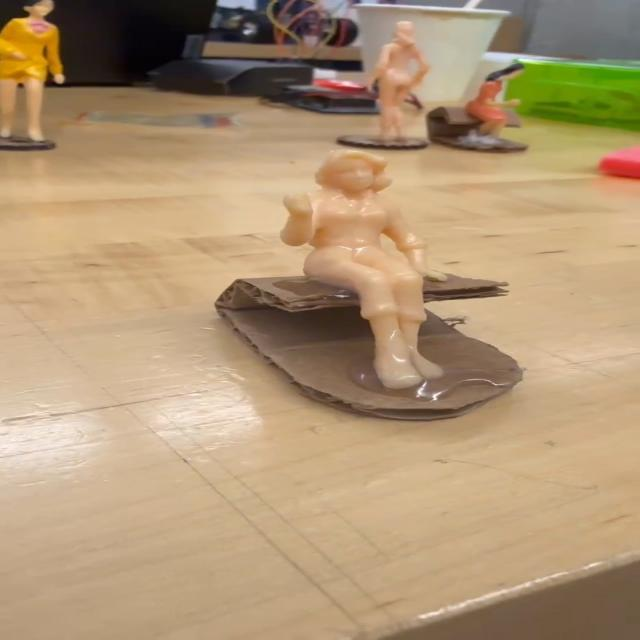Unauthorized: (273, 145, 479, 386)
